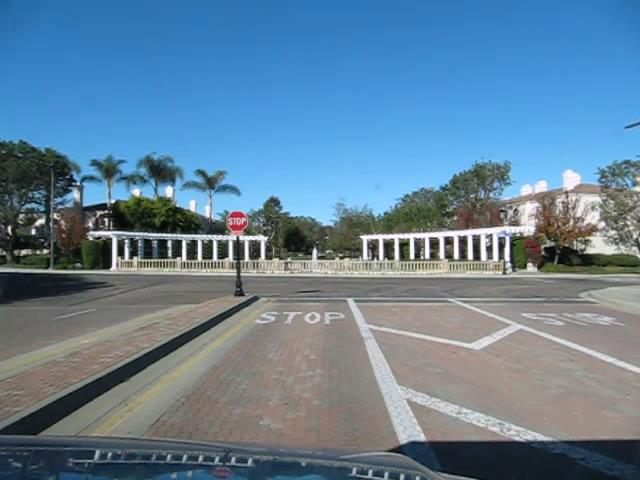stop: (225, 209, 248, 233)
